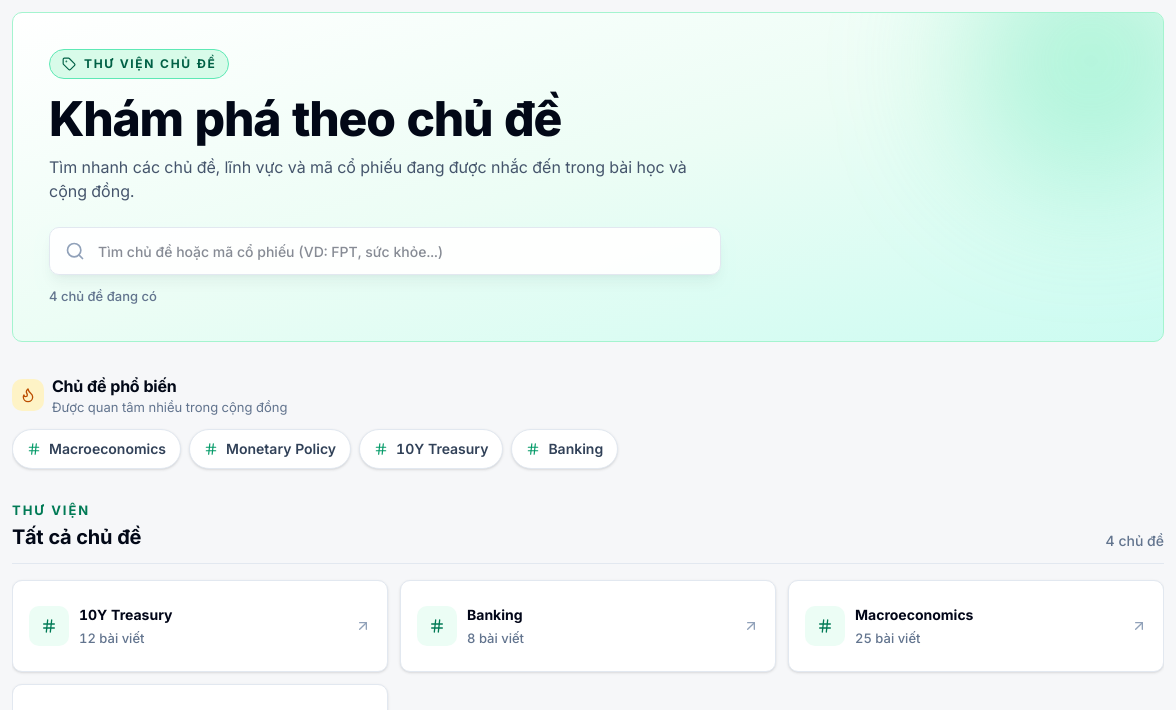
Test: TagsDirectoryView Component › filters tags dynamically by search input keyword
The image size is (1176, 710).
Type "Bank" into the search field with test id "tags-search-input" at coordinates (385, 251), box [49,227,721,275]
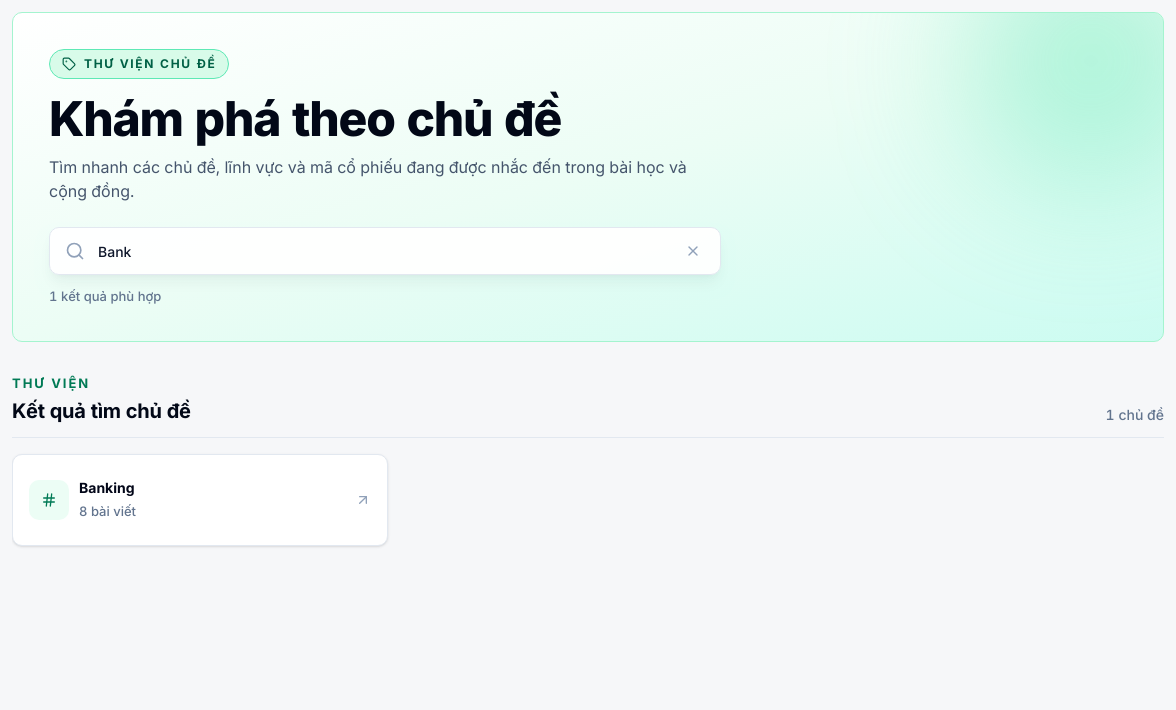
Expected: the text "Banking" is shown, [79,478,136,498]
Result: the link "Macroeconomics" is gone
